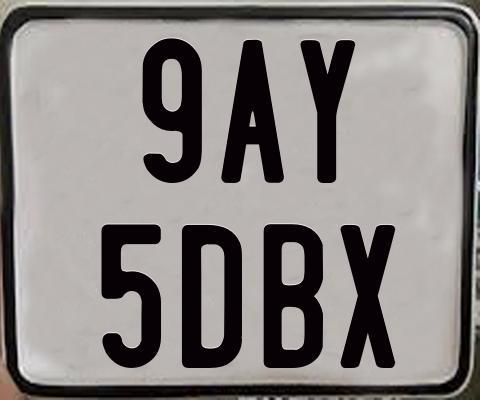5: (101, 222, 162, 372)
9: (140, 38, 201, 183)
A: (218, 40, 285, 189)
B: (263, 223, 323, 372)
D: (181, 222, 243, 366)
X: (338, 223, 399, 372)
Y: (297, 38, 353, 181)
